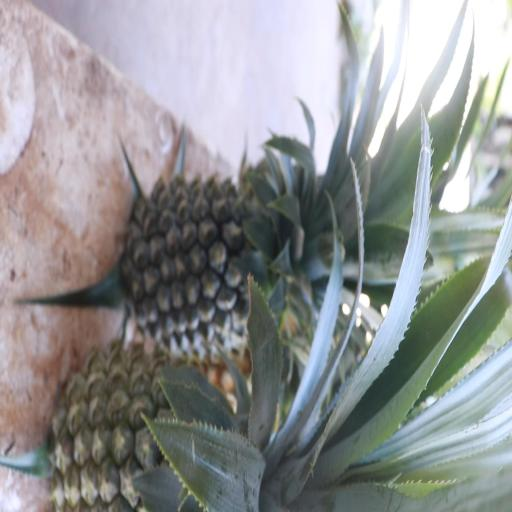------------------------------: (50, 344, 276, 512)
